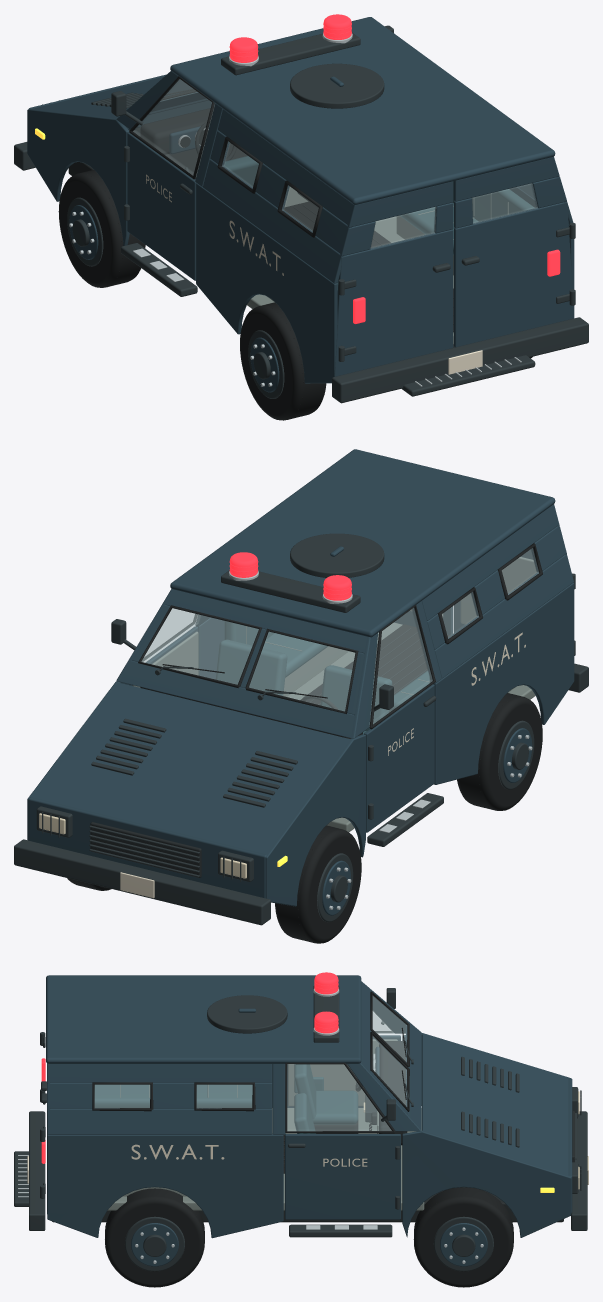
Rendered from Ranger.fbx.
The picture shows the model from 3 angles, top to bottom: view 1: azimuth 30°, elevation 25°; view 2: azimuth 150°, elevation 25°; view 3: azimuth 270°, elevation 25°; orthographic projection. The views are drawn at different scales.
Visible parts, largest first — view 1: Ranger; view 2: Ranger; view 3: Ranger.
Boxes of the visible parts, x1=… form: Ranger: x1=14, y1=14, x2=588, y2=420; Ranger: x1=14, y1=449, x2=588, y2=943; Ranger: x1=14, y1=972, x2=588, y2=1287.
Size of the model in its own units: 274 by 267 by 575.
